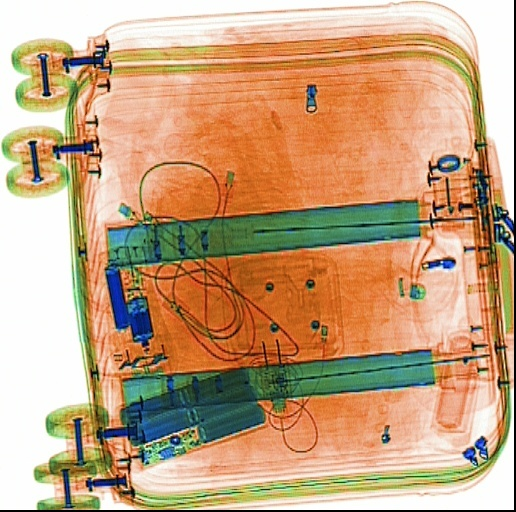powerbank: (110, 364, 271, 474)
